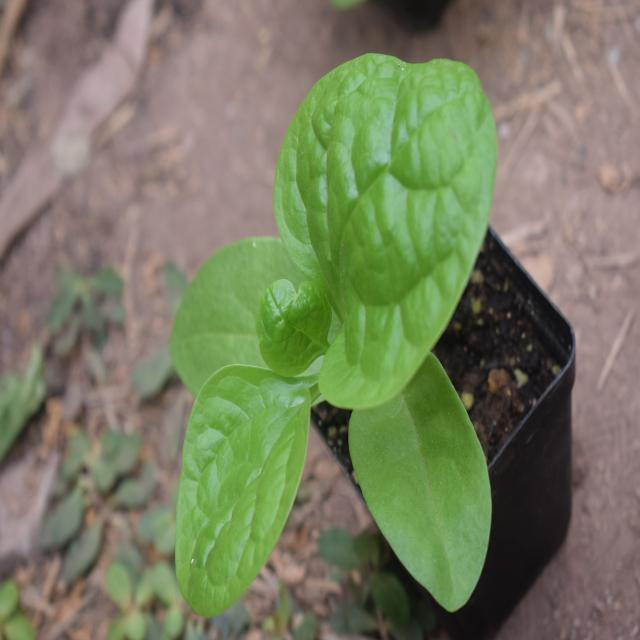Ceylon spinach: (141, 58, 499, 582)
